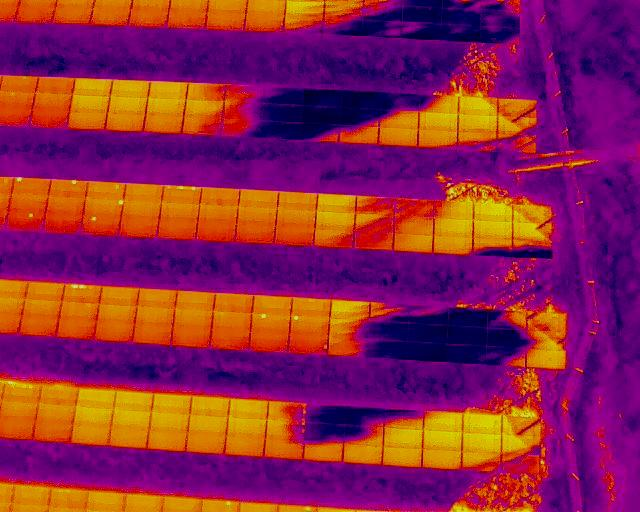Cell: (80, 215, 121, 235), (251, 313, 290, 333), (5, 210, 44, 230), (291, 315, 329, 335), (83, 197, 124, 215), (86, 180, 126, 197), (11, 177, 50, 194), (48, 179, 86, 195), (0, 92, 34, 109)
Cell-Multi: (3, 384, 40, 403), (162, 186, 202, 202)
No-Anomaly: (246, 8, 285, 31), (168, 6, 206, 29), (237, 221, 275, 244), (34, 420, 73, 442), (462, 432, 502, 453), (157, 217, 197, 238), (43, 212, 83, 233), (149, 429, 187, 451), (198, 219, 236, 241), (118, 215, 159, 235), (72, 423, 111, 444), (383, 446, 422, 467), (206, 8, 245, 29), (434, 235, 474, 255), (425, 410, 463, 431), (464, 413, 502, 434), (110, 427, 148, 448), (130, 6, 168, 27), (172, 327, 211, 347), (343, 445, 382, 465), (383, 428, 422, 448), (423, 430, 462, 450), (91, 5, 130, 25), (459, 95, 498, 115), (330, 300, 369, 320), (52, 4, 91, 24), (229, 399, 266, 420), (17, 0, 54, 21), (134, 326, 172, 346), (211, 330, 249, 350), (57, 320, 95, 340), (191, 397, 229, 417), (303, 443, 343, 462), (422, 450, 462, 469), (434, 218, 474, 237), (176, 291, 214, 311), (250, 333, 289, 352), (289, 336, 328, 355), (228, 418, 267, 437), (226, 438, 265, 457), (418, 130, 457, 149), (474, 203, 513, 222), (275, 226, 314, 245), (153, 395, 190, 415), (75, 405, 112, 425), (187, 433, 224, 453), (115, 393, 153, 412), (77, 390, 115, 409), (214, 294, 252, 313), (138, 289, 176, 308), (21, 318, 57, 338), (110, 80, 150, 98), (143, 115, 183, 133), (49, 489, 86, 508), (101, 287, 138, 306), (96, 324, 135, 342), (112, 409, 151, 427), (474, 221, 513, 239), (379, 129, 418, 147), (106, 113, 145, 131), (253, 294, 292, 312), (394, 235, 433, 253), (0, 419, 35, 439), (528, 350, 566, 368), (317, 194, 355, 212), (201, 188, 239, 206), (136, 308, 174, 326), (146, 99, 186, 116), (67, 113, 107, 130), (28, 111, 68, 128), (174, 310, 211, 328), (61, 302, 98, 320), (99, 306, 136, 324), (27, 282, 62, 301), (265, 442, 304, 459), (279, 192, 318, 209), (9, 195, 48, 212), (316, 213, 355, 230), (32, 93, 71, 110), (292, 298, 331, 315), (212, 313, 250, 330), (41, 387, 79, 404), (187, 83, 225, 100), (123, 494, 161, 511), (151, 413, 189, 430), (36, 404, 76, 420), (69, 96, 109, 112), (108, 97, 148, 113), (87, 493, 122, 511), (13, 485, 48, 503), (23, 300, 60, 317), (73, 79, 112, 95), (35, 78, 74, 94), (148, 82, 187, 98), (239, 190, 278, 206), (46, 196, 85, 212), (124, 183, 163, 199), (458, 115, 497, 131), (419, 114, 458, 130), (200, 205, 238, 221), (238, 206, 276, 222), (277, 210, 315, 226), (0, 402, 37, 418), (125, 199, 162, 215), (190, 418, 228, 433), (160, 202, 200, 216), (184, 101, 224, 115), (0, 77, 37, 92), (0, 109, 29, 126)
Shadowing: (328, 336, 368, 358), (329, 318, 369, 340), (527, 311, 567, 332), (285, 12, 324, 33), (497, 132, 536, 153), (369, 302, 408, 323), (315, 227, 354, 248), (368, 338, 408, 358), (384, 409, 424, 429), (266, 421, 306, 441), (182, 115, 222, 135), (408, 323, 447, 343), (448, 345, 486, 365), (346, 406, 384, 426), (346, 425, 384, 445), (434, 201, 474, 220), (487, 310, 527, 329), (267, 402, 306, 421), (307, 404, 346, 423), (503, 416, 542, 435), (305, 424, 344, 443), (502, 435, 541, 454), (409, 304, 448, 323), (448, 308, 487, 327), (395, 198, 433, 217), (355, 230, 393, 249), (325, 15, 363, 34), (441, 24, 481, 42), (486, 347, 526, 365), (407, 342, 447, 360), (368, 321, 408, 339), (514, 205, 554, 223), (260, 122, 300, 140), (339, 127, 379, 145), (363, 2, 403, 20), (474, 239, 514, 257), (502, 454, 539, 473), (527, 332, 566, 350), (448, 327, 487, 345), (302, 89, 341, 107), (395, 216, 434, 234), (403, 4, 442, 22), (363, 19, 402, 37), (222, 120, 263, 137), (513, 224, 554, 241), (513, 240, 554, 257), (341, 90, 379, 108), (482, 8, 520, 26), (403, 22, 441, 40), (487, 329, 527, 346), (299, 125, 339, 142), (498, 98, 538, 115), (419, 96, 459, 113), (480, 27, 519, 44), (462, 452, 501, 469), (442, 7, 481, 24), (458, 132, 497, 149), (223, 102, 262, 119), (380, 94, 419, 111), (301, 108, 340, 125), (340, 109, 379, 126), (380, 111, 419, 128), (263, 88, 301, 105), (356, 197, 394, 214), (356, 214, 394, 231), (498, 115, 538, 131), (262, 105, 301, 121), (225, 85, 263, 101)
Unclassified: (63, 284, 100, 304)
